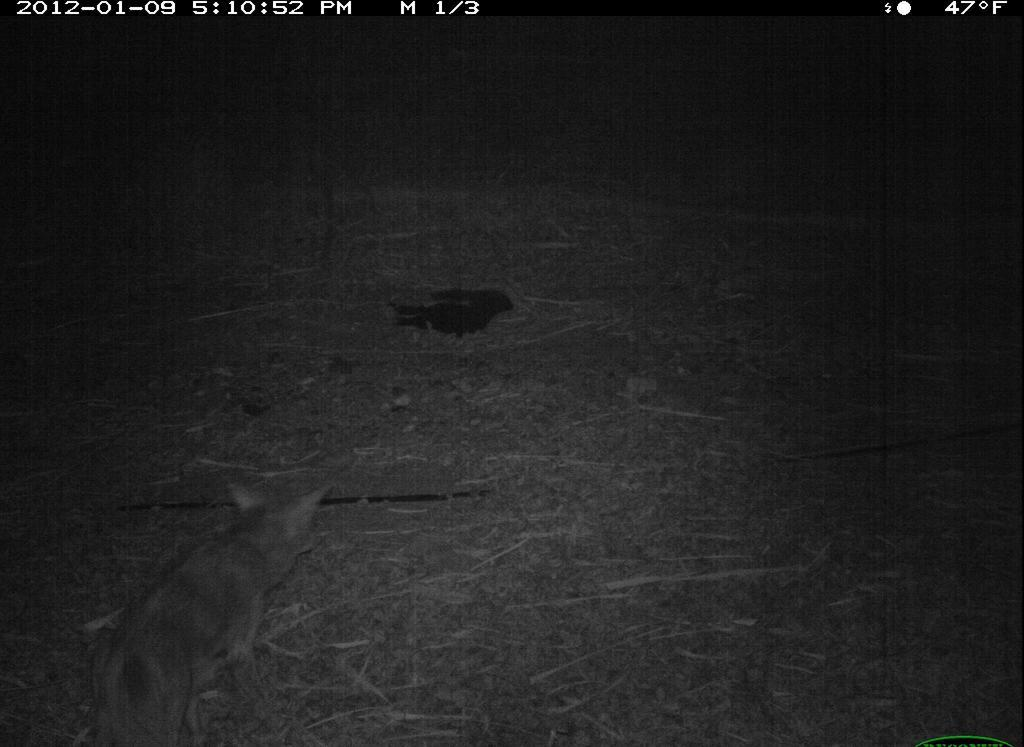coyote: (73, 465, 347, 747)
